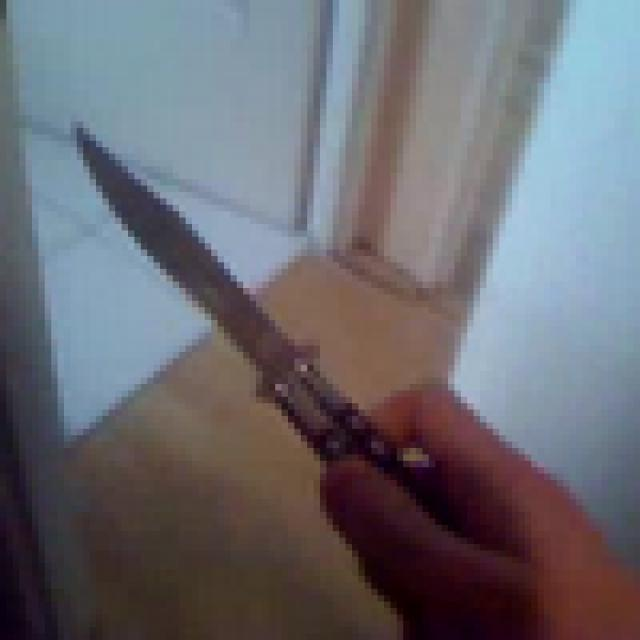knife: (45, 103, 493, 583)
